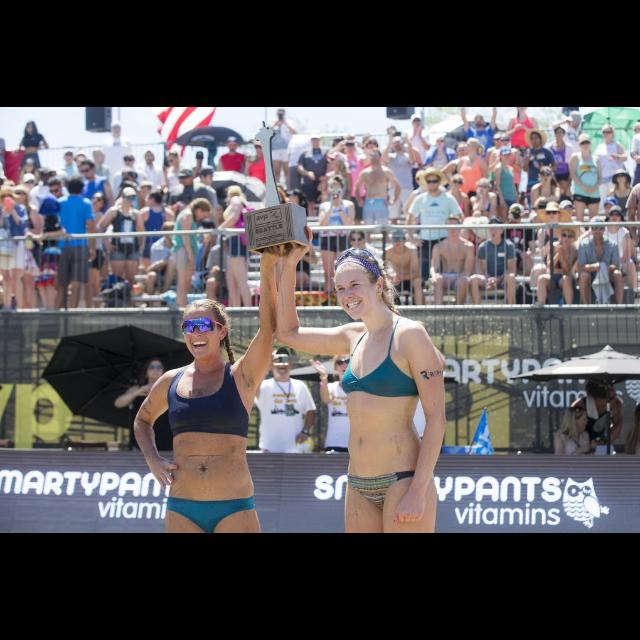head: (334, 253, 384, 321), (182, 300, 228, 360), (592, 378, 618, 408), (568, 406, 590, 434), (272, 350, 294, 376), (192, 198, 212, 222), (336, 353, 354, 379), (144, 358, 166, 379), (559, 226, 577, 248), (590, 217, 606, 241), (349, 229, 366, 251), (488, 220, 506, 240), (391, 230, 407, 252), (121, 188, 137, 208), (67, 178, 85, 195), (446, 217, 462, 236), (228, 186, 242, 198)
person: (238, 344, 322, 508), (112, 356, 196, 510), (307, 352, 379, 508), (198, 184, 262, 318), (564, 378, 626, 514), (48, 175, 100, 318), (98, 186, 148, 316), (552, 405, 608, 507), (168, 195, 214, 317), (466, 216, 520, 314), (427, 213, 478, 314), (574, 216, 626, 314), (532, 222, 580, 314), (338, 227, 387, 315), (382, 227, 424, 315)
